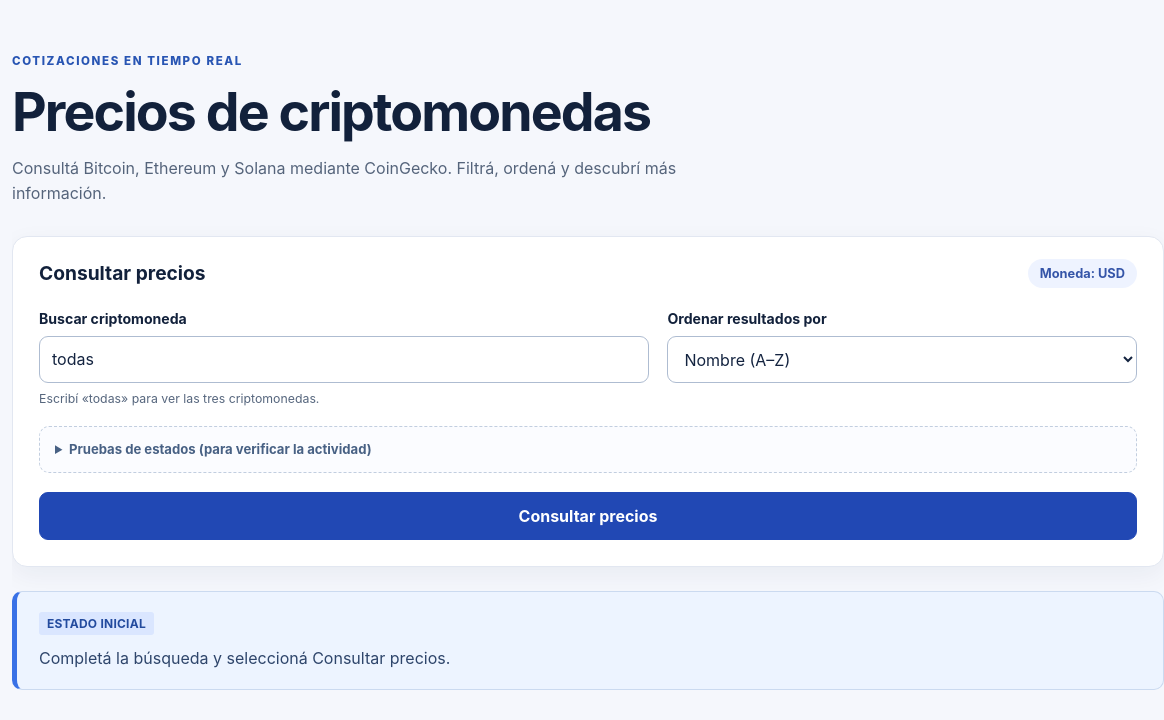
Consulta y estados de pantalla › comunica una respuesta sin resultados
Click the button "Consultar precios" at point(588, 516), box [39,492,1137,540]
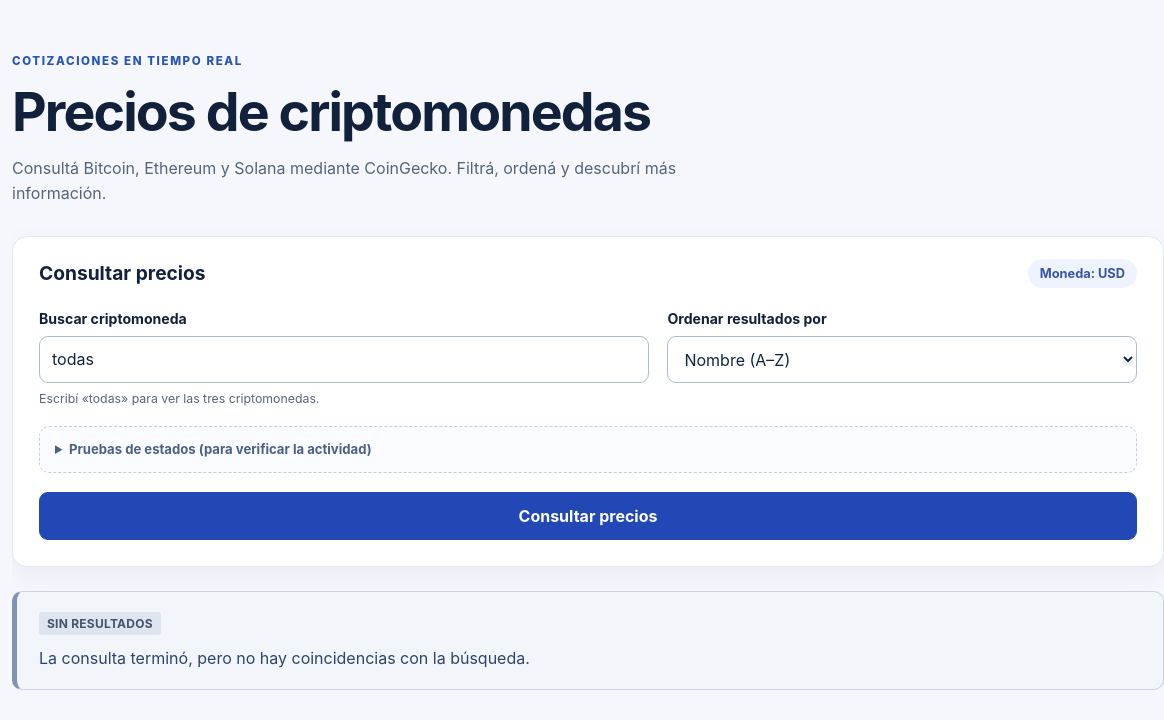
Expected: the text "SIN RESULTADOS" is shown, [39,612,161,635]
